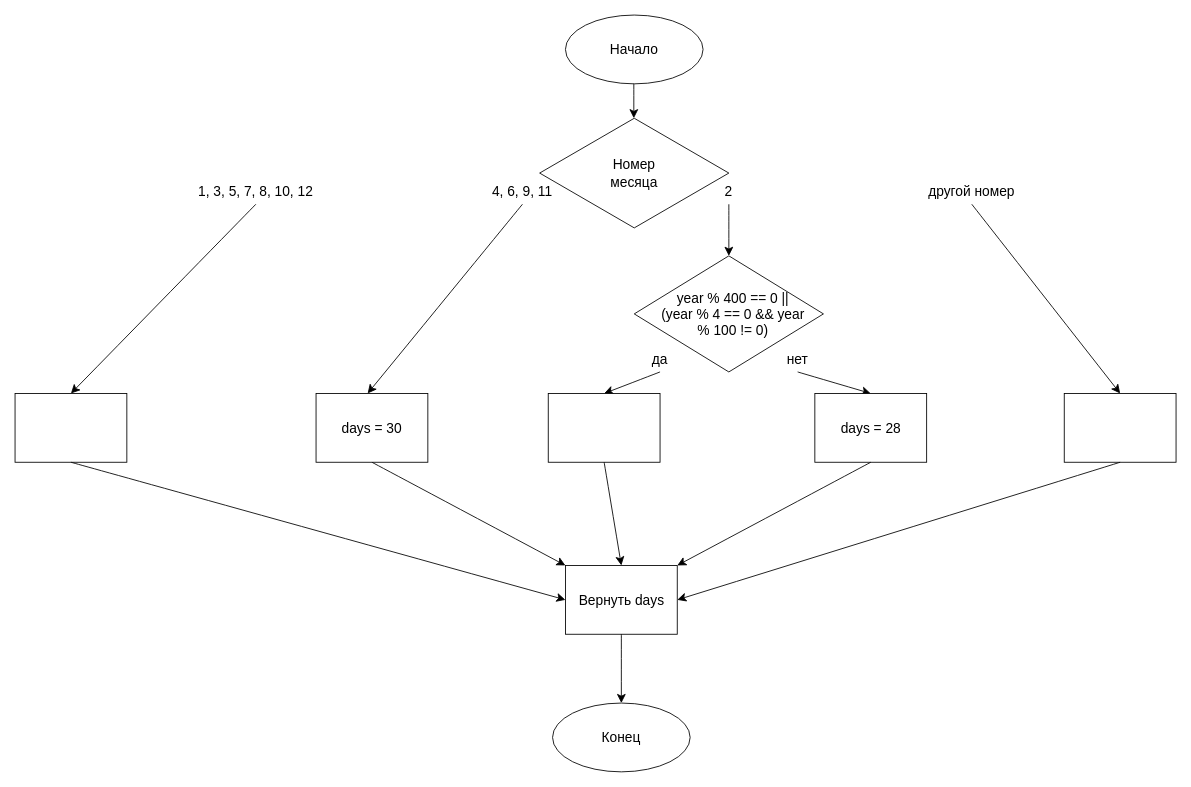
Some shapes in this 1191 by 787 pixel diagram are drawn without their labels. The centre of each missing label's shape, as x and y in pixels:
"days = -1" belongs at (1119,427).
"days = 29" belongs at (603,427).
"days = 31" belongs at (70,427).
